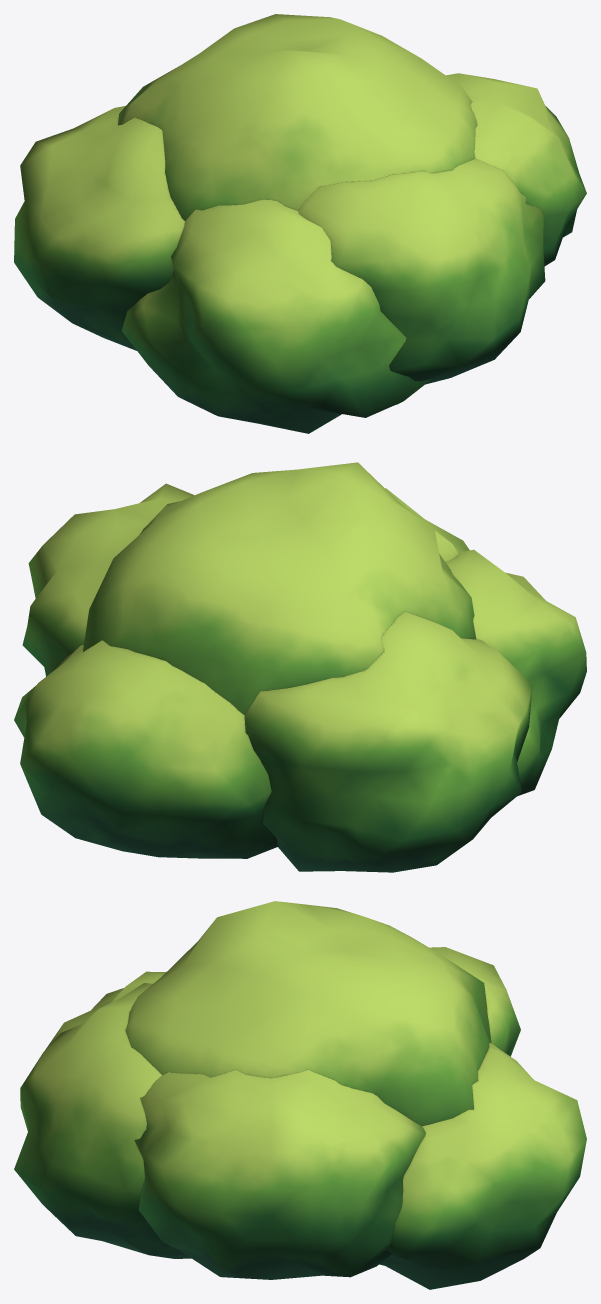
Rendered from Env_Bush_2.glb.
3 views of the same model, one above another, from view 1: azimuth 30°, elevation 25°; view 2: azimuth 150°, elevation 25°; view 3: azimuth 270°, elevation 25° (orthographic). The views are drawn at different scales.
Parts seen in each view (by area): view 1: Env_Bush_2.001; view 2: Env_Bush_2.001; view 3: Env_Bush_2.001.
Part boxes in pixels (x1=…): Env_Bush_2.001: x1=14, y1=14, x2=586, y2=433; Env_Bush_2.001: x1=14, y1=462, x2=586, y2=872; Env_Bush_2.001: x1=14, y1=901, x2=586, y2=1289.
Size of the model in its own units: 5 by 3.16 by 4.93.
Materials: 1 (1 with a texture image).
